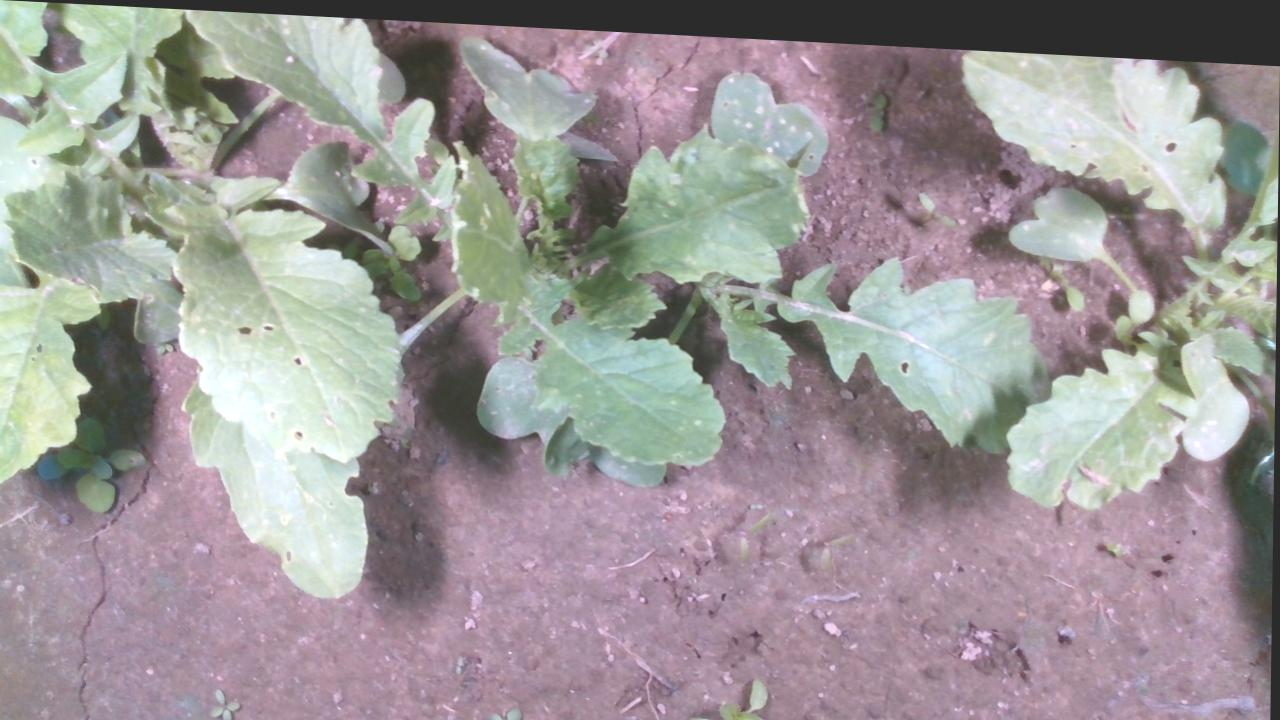weed: (916, 179, 962, 223), (210, 683, 244, 719), (484, 699, 526, 719)
